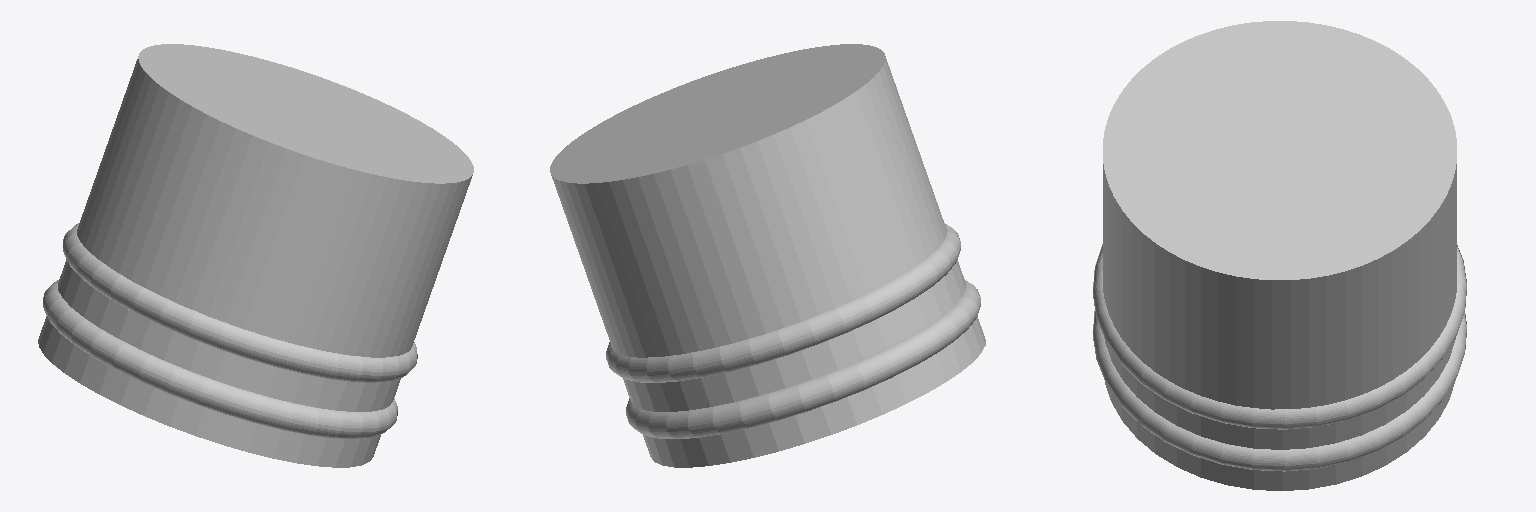
File: bombilla100.obj
3 renders of one model, left to right at view 1: azimuth 30°, elevation 25°; view 2: azimuth 150°, elevation 25°; view 3: azimuth 270°, elevation 25°, orthographic.
Parts seen in each view (by area): view 1: Cylinder001, Cylinder003, Cylinder004, Cylinder006, Cylinder002; view 2: Cylinder001, Cylinder003, Cylinder004, Cylinder006, Cylinder002; view 3: Cylinder001, Cylinder004, Cylinder002, Cylinder003, Cylinder006.
Part boxes in pixels (x1,y1,x2,y2): Cylinder001: (77,44,473,357); Cylinder003: (58,259,400,411); Cylinder004: (43,280,397,439); Cylinder006: (38,316,380,467); Cylinder002: (63,223,417,382); Cylinder001: (550,44,946,357); Cylinder003: (623,260,965,411); Cylinder004: (626,280,980,438); Cylinder006: (643,316,985,467); Cylinder002: (606,224,960,382); Cylinder001: (1103,21,1456,409); Cylinder004: (1093,311,1466,471); Cylinder002: (1093,244,1466,429); Cylinder003: (1104,338,1455,449); Cylinder006: (1105,379,1455,490).
Bounding box in the file's own units: 85.76 × 80.87 × 72.21.